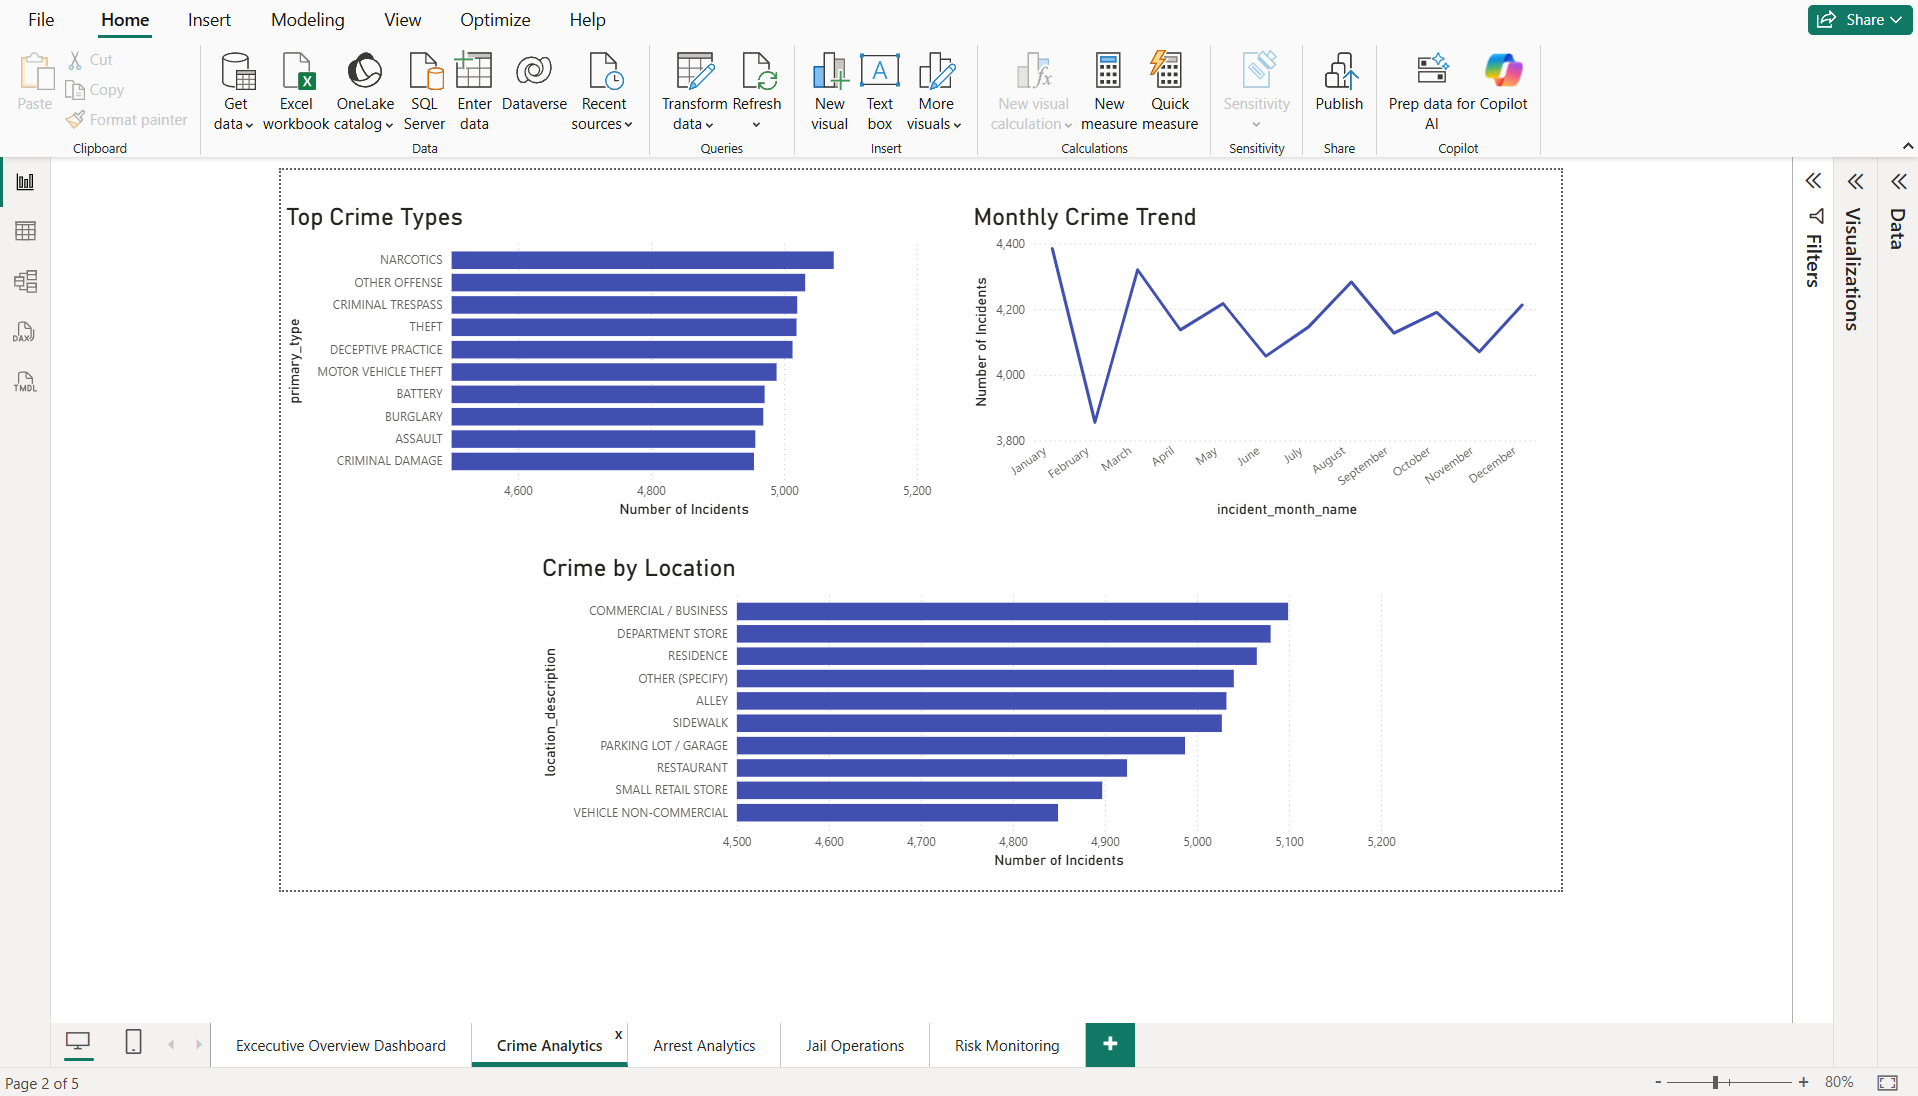

This screenshot's page, from the dashboard's own definition file:
{"tool":"powerbi","page":{"name":"Crime Analytics","canvas":[1280,720],"ordinal":1},"visuals":[{"type":"clusteredBarChart","title":"Top Crime Types","fields":{"Category":["crime_incidents_clean.primary_type"],"Y":["CountNonNull(crime_incidents_clean.id)"]},"box":[0,32,656,320],"z":0},{"type":"lineChart","title":"Monthly Crime Trend","fields":{"Y":["Count(crime_incidents_clean.id)"],"Category":["crime_incidents_clean.incident_month_name"]},"box":[688,32,576,320],"z":1000},{"type":"clusteredBarChart","title":"Crime by Location","fields":{"Category":["crime_incidents_clean.location_description"],"Y":["Count(crime_incidents_clean.id)"]},"box":[256,384,864,320],"z":2000}]}

Visuals, with their boxes on the page's 1280x720 design canvas (x1, y1, x2, y2). These are canvas units, not pixel positions in the 1918x1096 screenshot, which may show the page scaled, cropped or inside an application window:
"Top Crime Types" clusteredBarChart: locate(0, 32, 656, 352)
"Monthly Crime Trend" lineChart: locate(688, 32, 1264, 352)
"Crime by Location" clusteredBarChart: locate(256, 384, 1120, 704)
